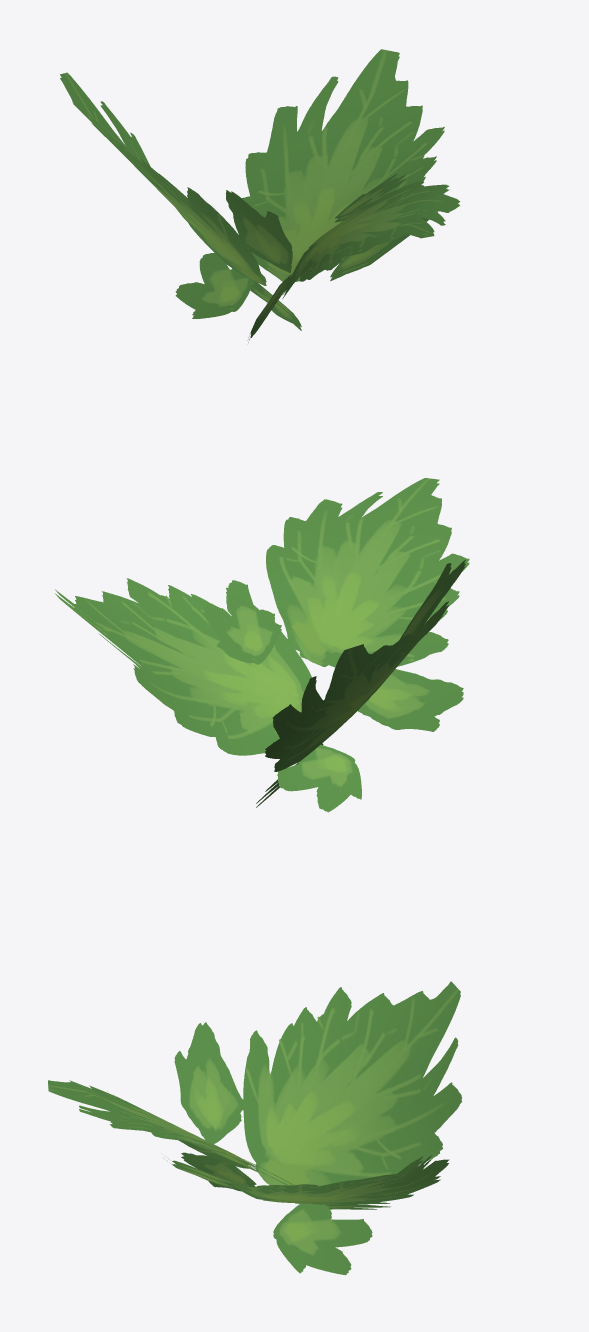
File: leaves.fbx
3 views of the same model, one above another, from view 1: azimuth 30°, elevation 25°; view 2: azimuth 150°, elevation 25°; view 3: azimuth 270°, elevation 25° (orthographic). The views are drawn at different scales.
Visible parts, largest first — view 1: leaves; view 2: leaves; view 3: leaves.
Part boxes in pixels (<box>): leaves: <box>60,49,460,342</box>; leaves: <box>55,478,469,812</box>; leaves: <box>48,981,461,1275</box>.
Size of the model in its own units: 1.95 by 1.32 by 2.04.
Materials: 1 (1 with a texture image).
